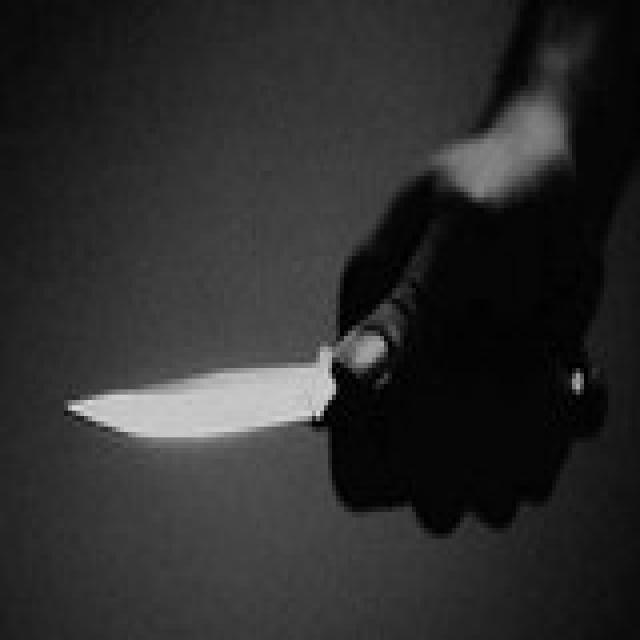Knife: (59, 358, 468, 456)
